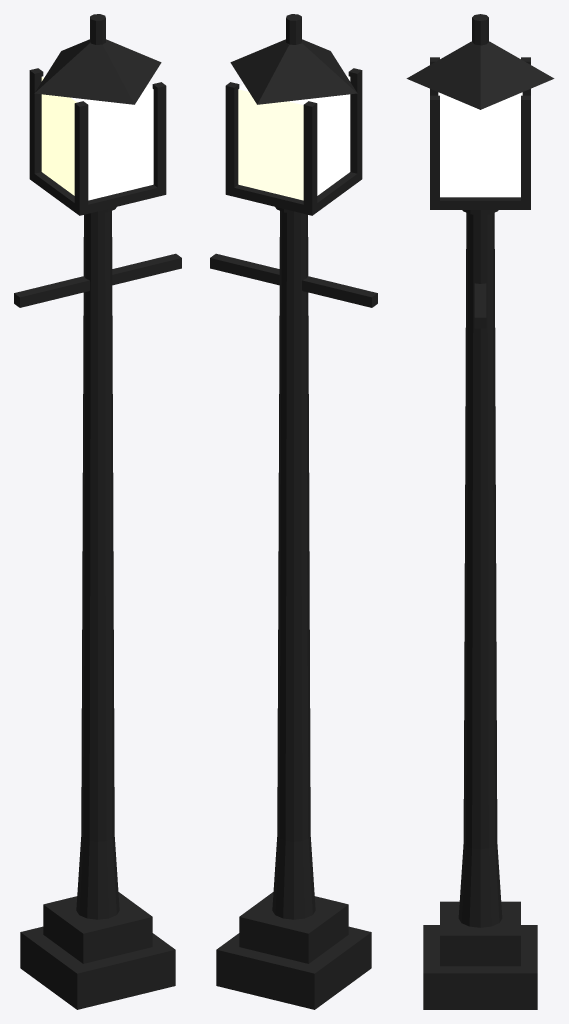
File: street-lamp.glb
3 views of the same model, side by side, from view 1: azimuth 30°, elevation 25°; view 2: azimuth 150°, elevation 25°; view 3: azimuth 270°, elevation 25° (orthographic).
Visible parts, largest first — view 1: iron, lantern; view 2: iron, lantern; view 3: iron, lantern.
Part boxes in pixels (box(x1,y1,x2,y2)): iron: box(14, 14, 181, 1009); lantern: box(41, 75, 153, 200); iron: box(210, 14, 377, 1009); lantern: box(238, 75, 350, 200); iron: box(406, 14, 554, 1009); lantern: box(438, 92, 522, 197).
Size of the model in its own units: 0.56 by 3.17 by 0.44.
